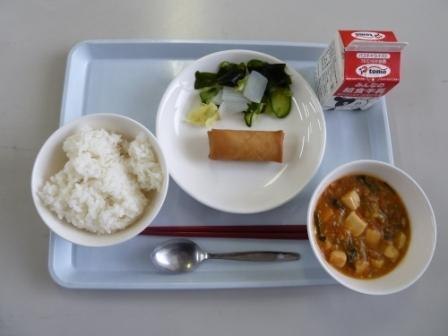Milk: (317, 22, 411, 107)
Rice: (20, 112, 157, 239)
Salad: (192, 48, 302, 130)
Spicy chili-flavored tofu: (303, 160, 431, 295)
crepe w filling: (207, 125, 287, 187)
